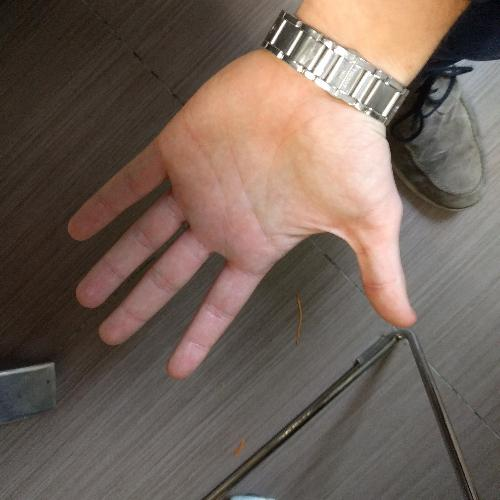paper: (63, 42, 423, 386)
